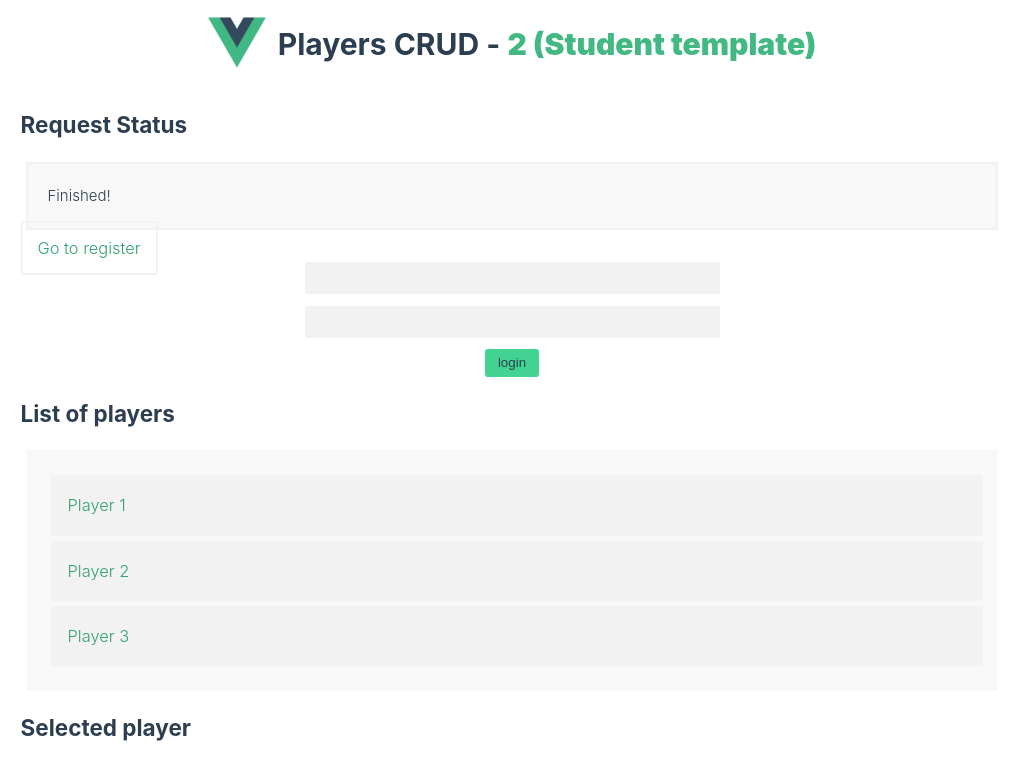
Test: Requests: DELETE › should not delete a player if DELETE-request fails
Click the link "Player 2" at {"x": 98, "y": 571}, box [51, 541, 984, 601]
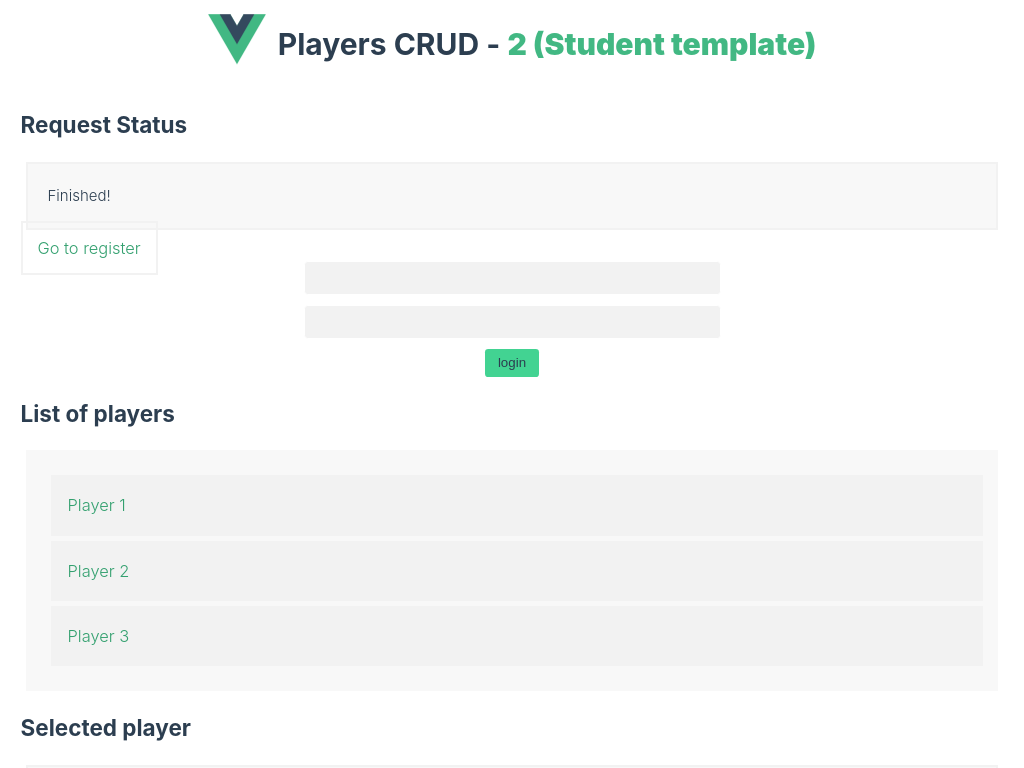
Check: the text "Finished!" is shown, box [26, 162, 998, 230]
Scroll
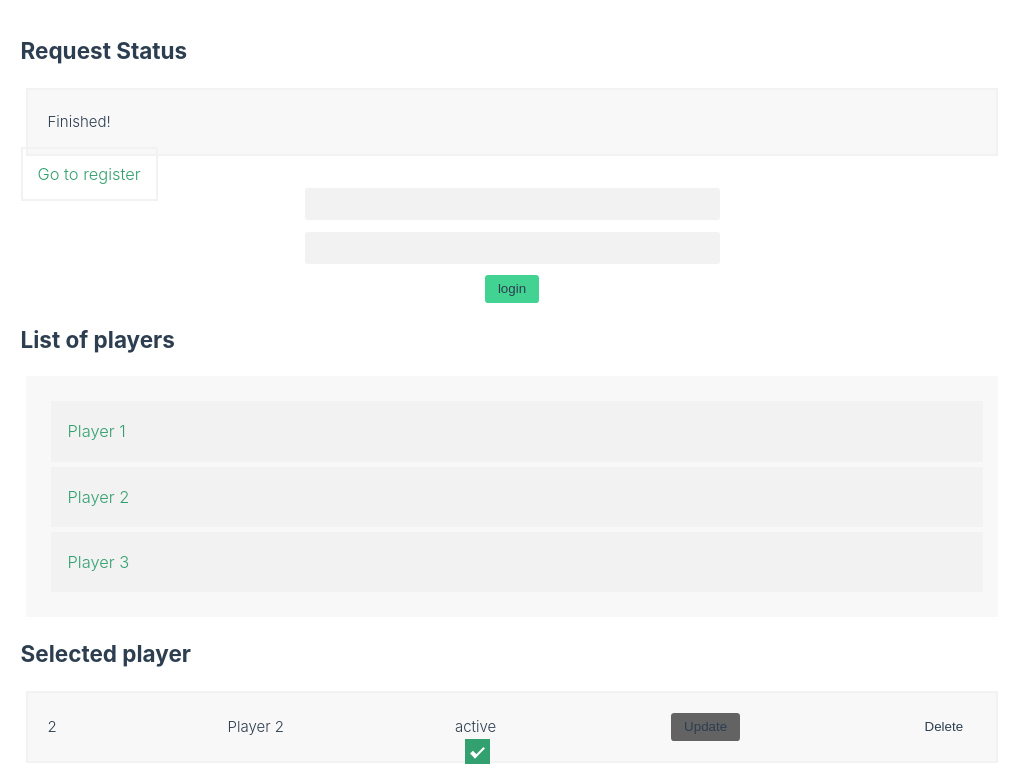
Click the button "Delete" at {"x": 944, "y": 727}, box [911, 713, 976, 741]
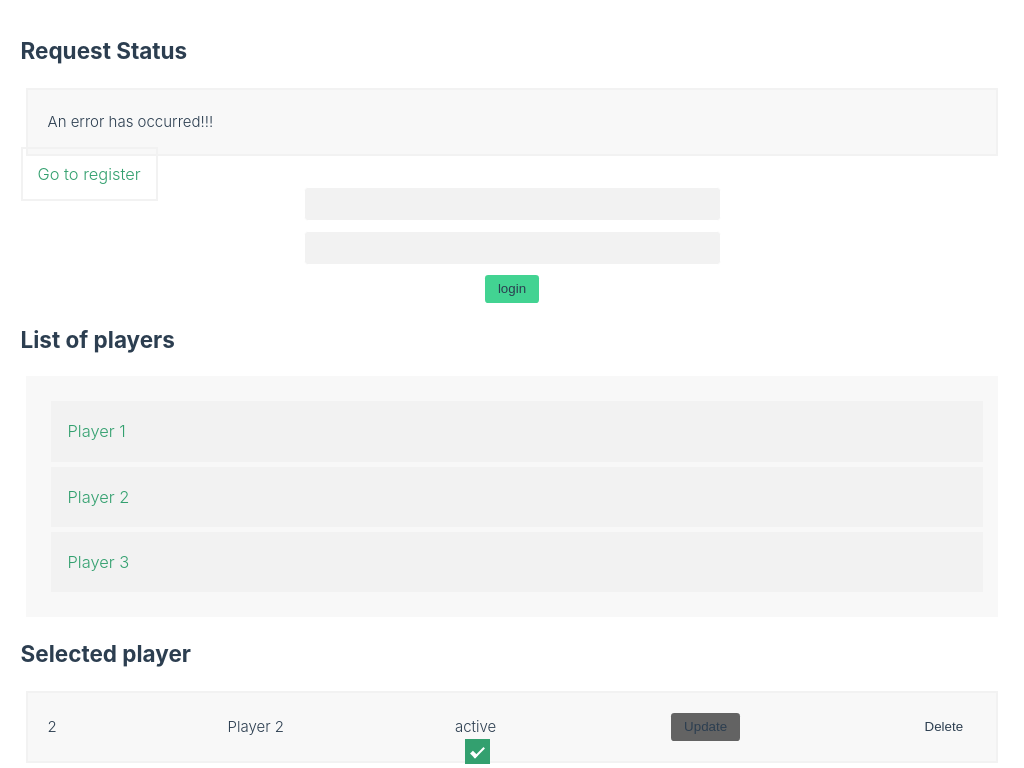
Check: the link "Player 2" is shown, box [50, 467, 983, 527]
Check: the text "error" is shown, box [48, 112, 214, 131]
